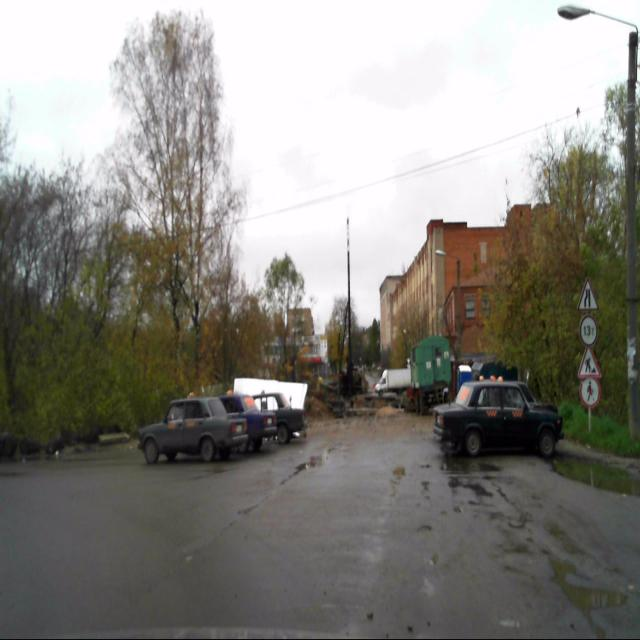road sign: (576, 276, 600, 313), (578, 343, 602, 379)
